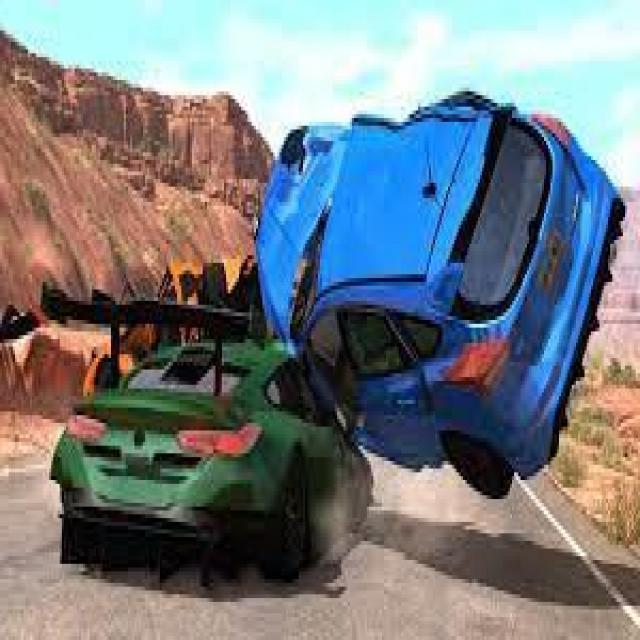accident: (44, 84, 626, 583)
